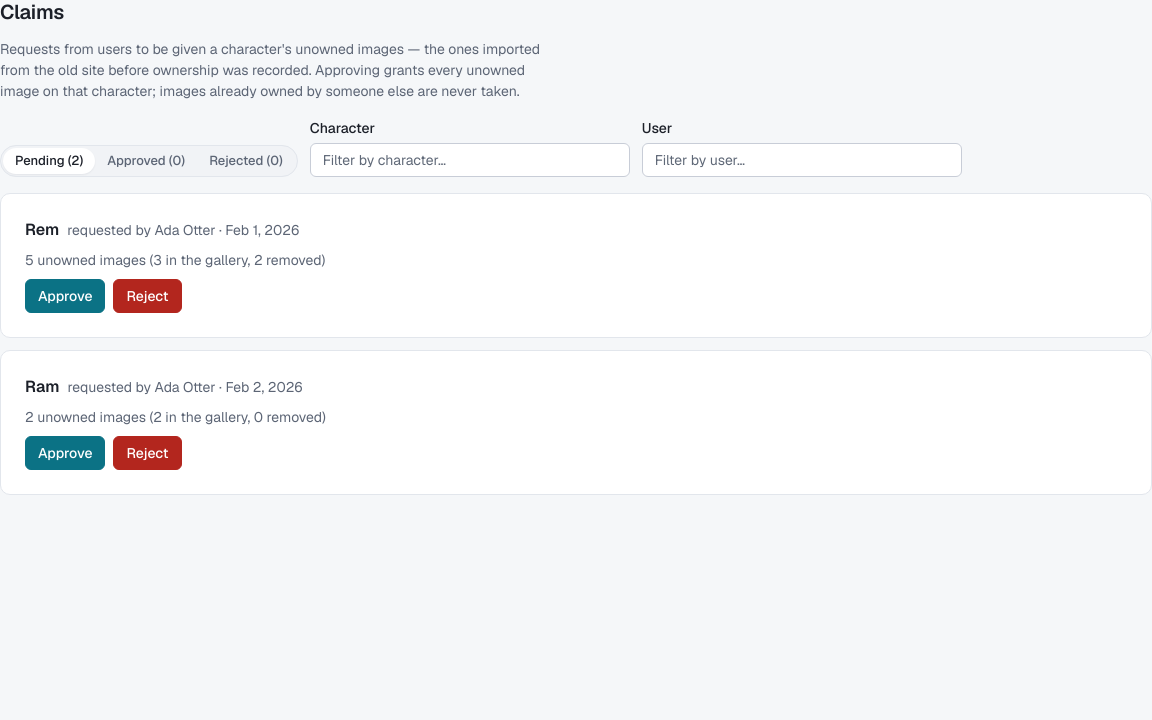
Test: ClaimsPage › reports what the cap left behind
Expected: the link "Rem" is shown, [25,218,59,242]
Type "Ada Otter" into the field labelled "User" at (802, 160), box [642,143,962,177]
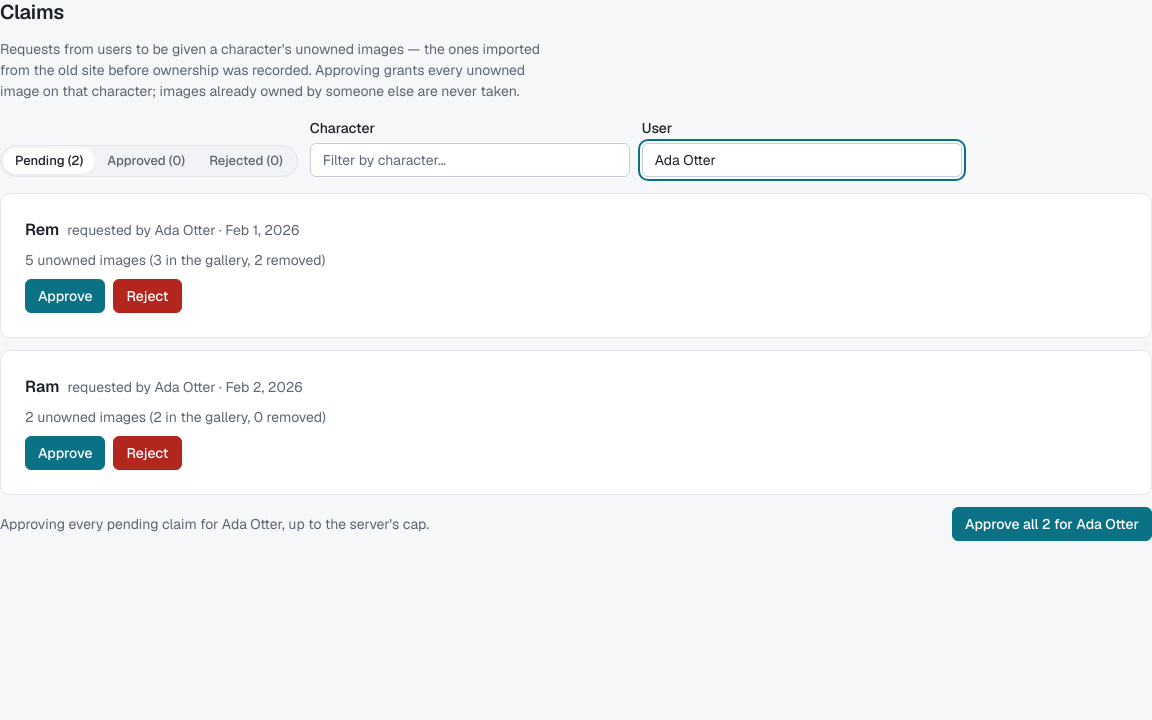
Click the button "Approve all 2 for Ada Otter" at (1052, 524), box [952,507,1151,541]
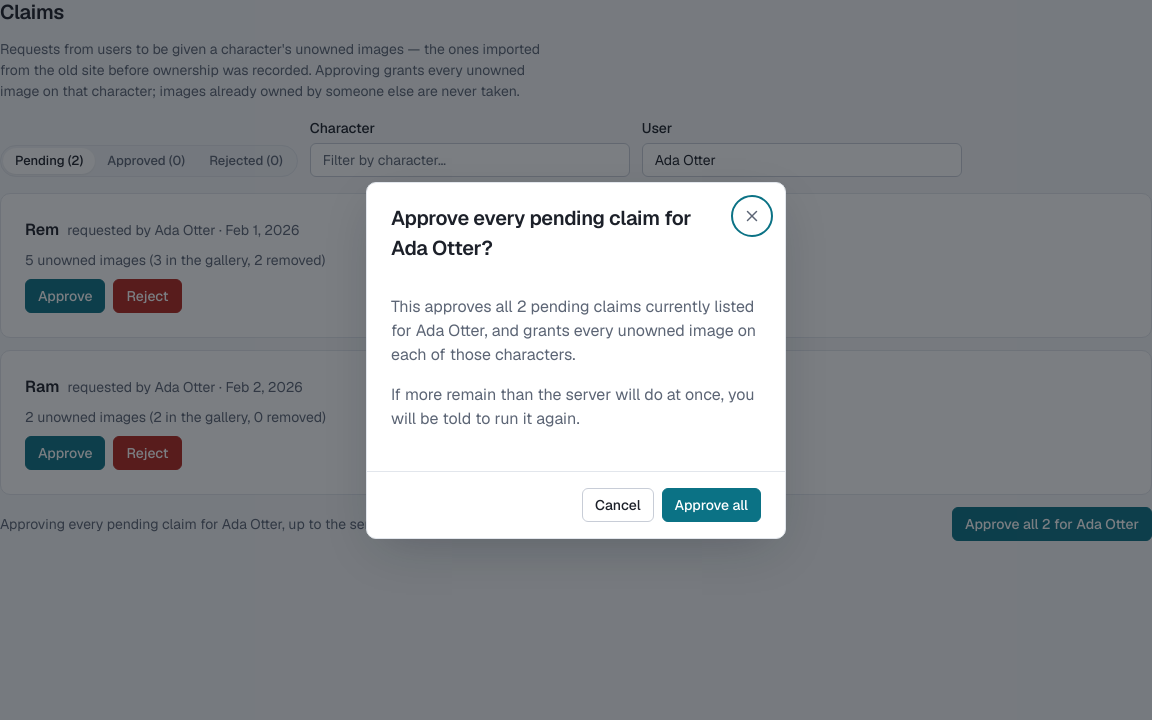
Click the button "Approve all" at (711, 504), box [662,488,761,522]
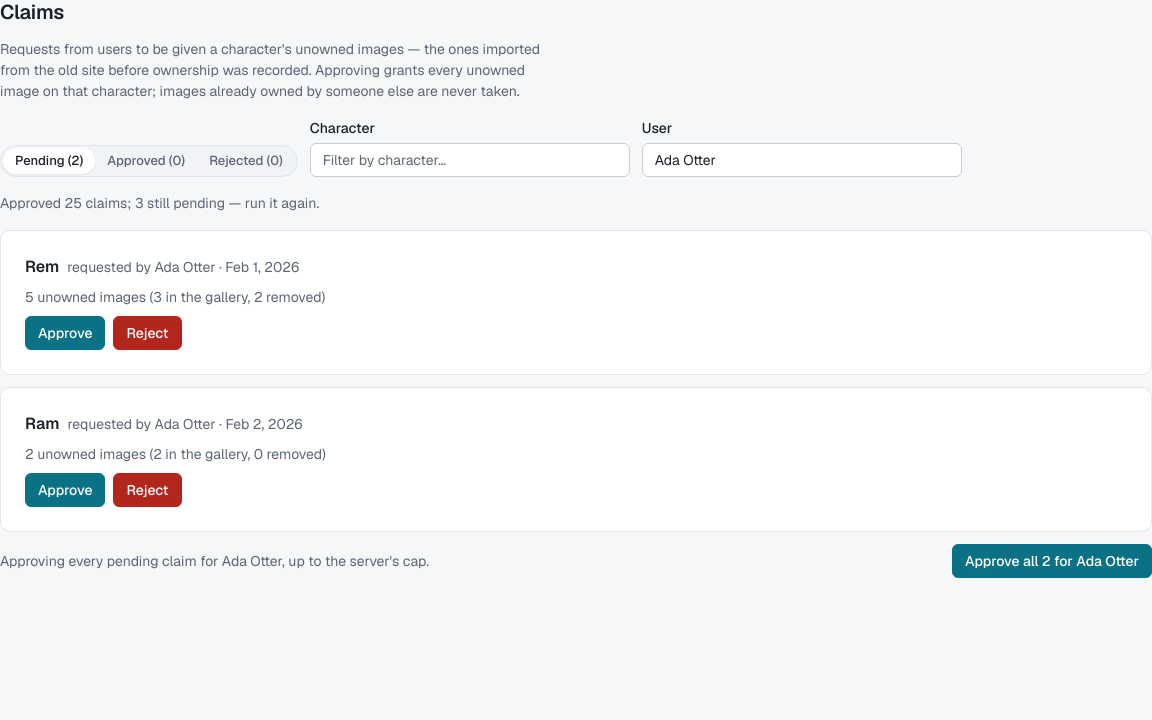
Now the text "Approved 25 claims; 3 still pending — run it again." is shown, box [0,194,319,212]
